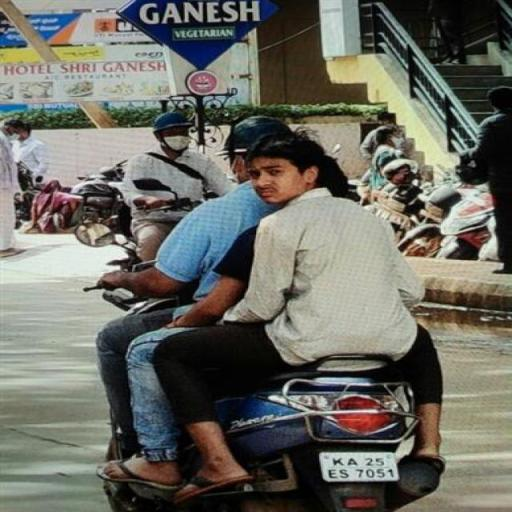tripple riding: (79, 112, 457, 358)
